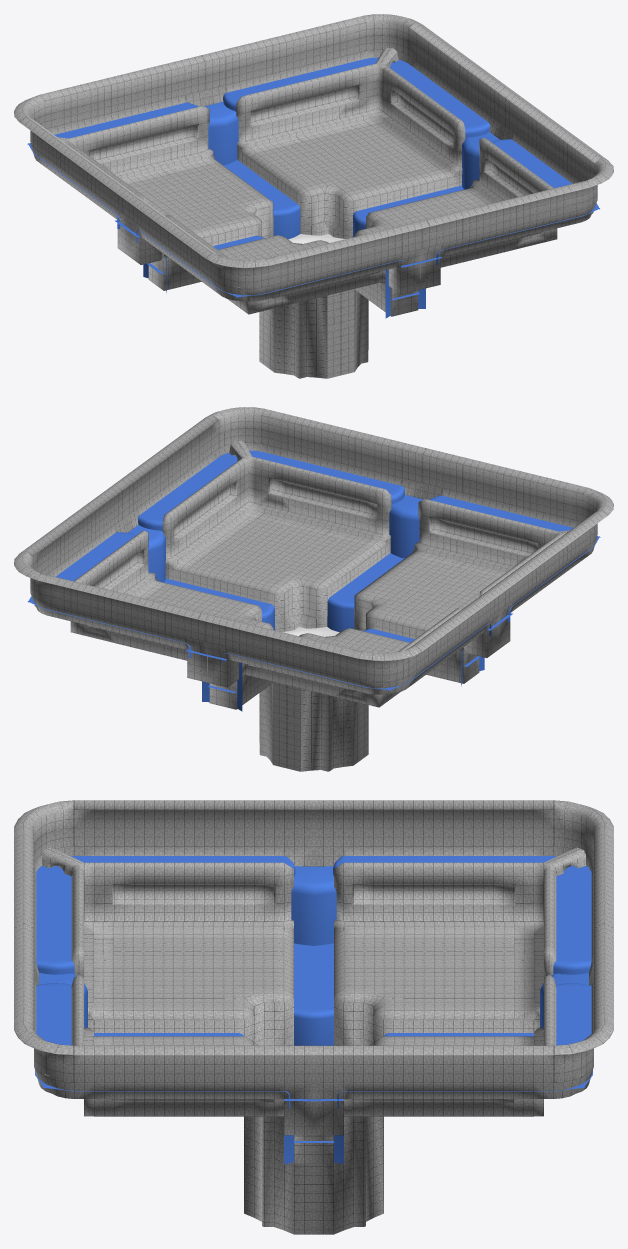
The picture shows the model from 3 angles, top to bottom: view 1: azimuth 30°, elevation 25°; view 2: azimuth 150°, elevation 25°; view 3: azimuth 270°, elevation 25°; orthographic projection. The views are drawn at different scales.
Parts seen in each view (by area): view 1: Structure, Channel Water (North), Channel Water (East), Channel Water (South), Channel Water (West); view 2: Structure, Channel Water (South), Channel Water (East), Channel Water (North), Channel Water (West); view 3: Structure, Channel Water (West), Channel Water (North), Channel Water (South), Channel Water (East).
Part boxes in pixels (x1,y1,x2,y2): Structure: (14, 14, 613, 378); Channel Water (North): (27, 57, 378, 239); Channel Water (East): (353, 60, 599, 237); Channel Water (South): (236, 208, 599, 318); Channel Water (West): (28, 143, 264, 297); Structure: (14, 407, 613, 771); Channel Water (South): (249, 450, 600, 632); Channel Water (East): (28, 453, 274, 630); Channel Water (North): (27, 600, 391, 711); Channel Water (West): (363, 536, 599, 690); Structure: (14, 800, 613, 1234); Channel Water (West): (71, 856, 556, 1045); Channel Water (North): (383, 865, 592, 1088); Channel Water (South): (35, 865, 244, 1088); Channel Water (East): (42, 1085, 585, 1164).
Bounding box in the file's own units: 30.01 × 15.55 × 29.99.
